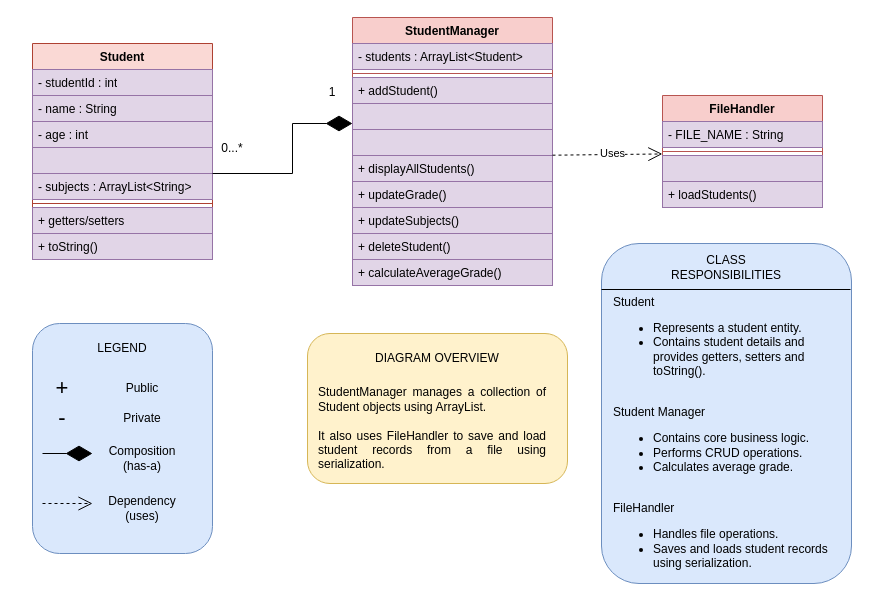
This 869x601 diagram has some shape labels left out. Here are the shapes that lost their labels. From the top down, the centre of each, then its label:
At (452,116): "+ searchById()".
At (122,160): "- grade : double".
At (452,142): "+ searchByName()".
At (742,168): "+ saveStudents()".
